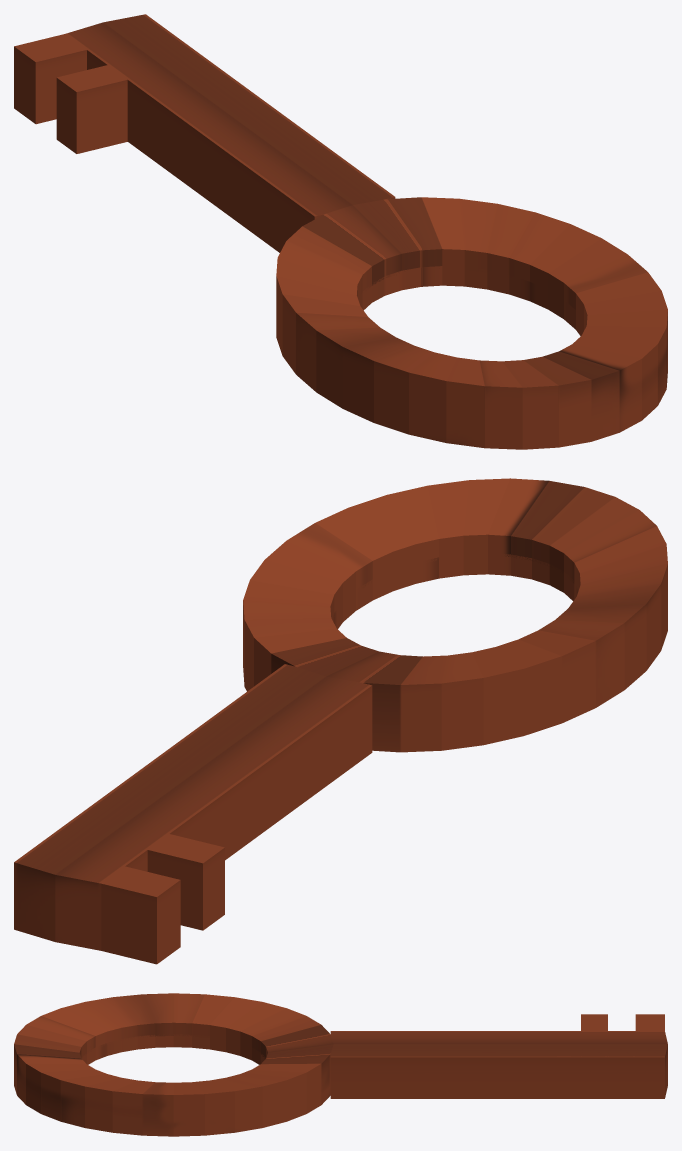
File: key.fbx
The picture shows the model from 3 angles, top to bottom: view 1: azimuth 30°, elevation 25°; view 2: azimuth 150°, elevation 25°; view 3: azimuth 270°, elevation 25°; orthographic projection. The views are drawn at different scales.
Parts seen in each view (by area): view 1: Cylinder; view 2: Cylinder; view 3: Cylinder.
Boxes of the visible parts, x1,y1,x2,y2 form: Cylinder: (14,14,667,449); Cylinder: (14,478,667,964); Cylinder: (14,993,667,1136).
Size of the model in its own units: 151 by 28.68 by 409.
1 material, 1 textured.
